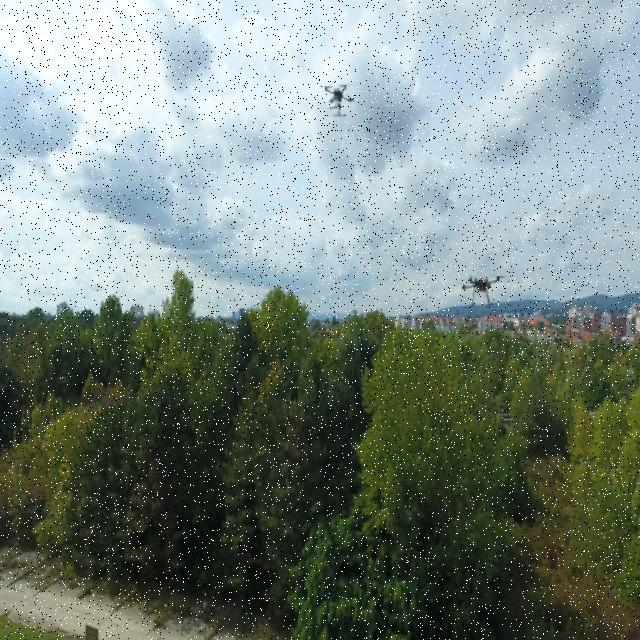UAV: (455, 267, 509, 310), (320, 74, 359, 122)
